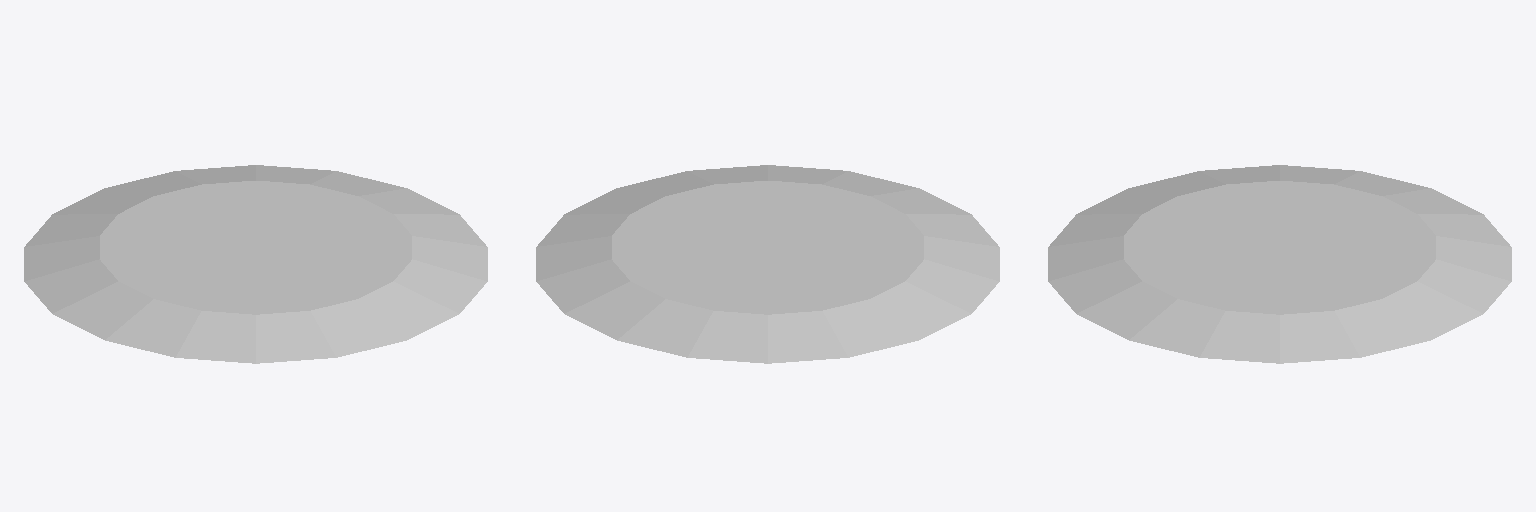
File: fan_grill_front.obj
3 renders of one model, left to right at view 1: azimuth 30°, elevation 25°; view 2: azimuth 150°, elevation 25°; view 3: azimuth 270°, elevation 25°, orthographic.
Parts seen in each view (by area): view 1: mesh; view 2: mesh; view 3: mesh.
Part boxes in pixels (bbox=[...]): mesh: bbox=[24, 165, 487, 363]; mesh: bbox=[536, 165, 999, 363]; mesh: bbox=[1048, 165, 1511, 363].
Bounding box in the file's own units: 1.97 × 0.0774 × 1.94.